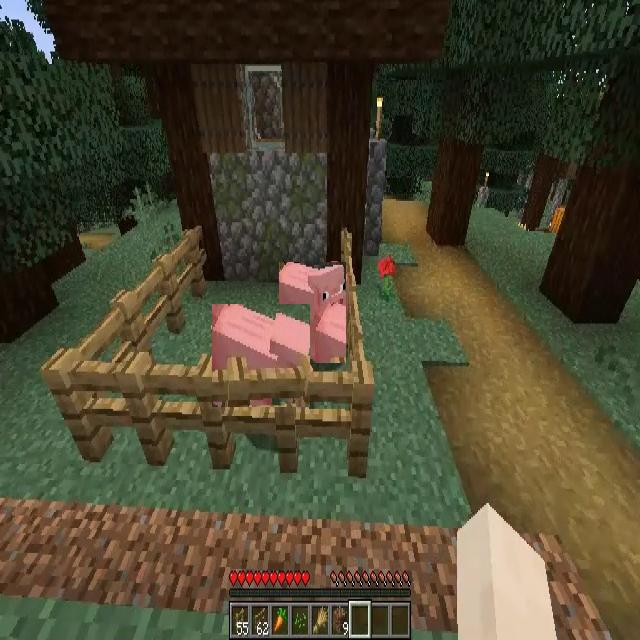pig: (212, 304, 310, 407), (279, 262, 346, 363)
